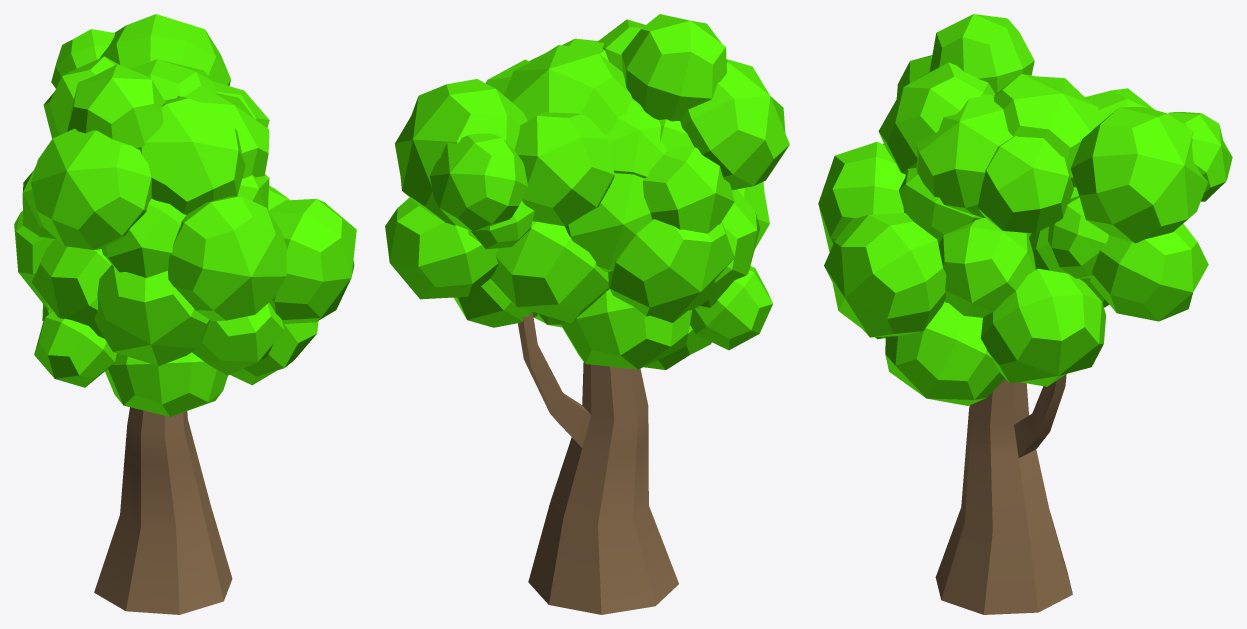
File: Arbol1.fbx
3 views of the same model, side by side, from view 1: azimuth 30°, elevation 25°; view 2: azimuth 150°, elevation 25°; view 3: azimuth 270°, elevation 25° (orthographic). The views are drawn at different scales.
Parts seen in each view (by area): view 1: Hojas1, Tronco1; view 2: Hojas1, Tronco1; view 3: Hojas1, Tronco1.
Boxes of the visible parts, box(x1,y1,x2,y2) form: Hojas1: box(14, 14, 356, 416); Tronco1: box(94, 407, 232, 614); Hojas1: box(385, 14, 789, 369); Tronco1: box(518, 312, 678, 614); Hojas1: box(818, 14, 1232, 405); Tronco1: box(935, 374, 1072, 614).
Bounding box in the file's own units: 371 × 474 × 681.
